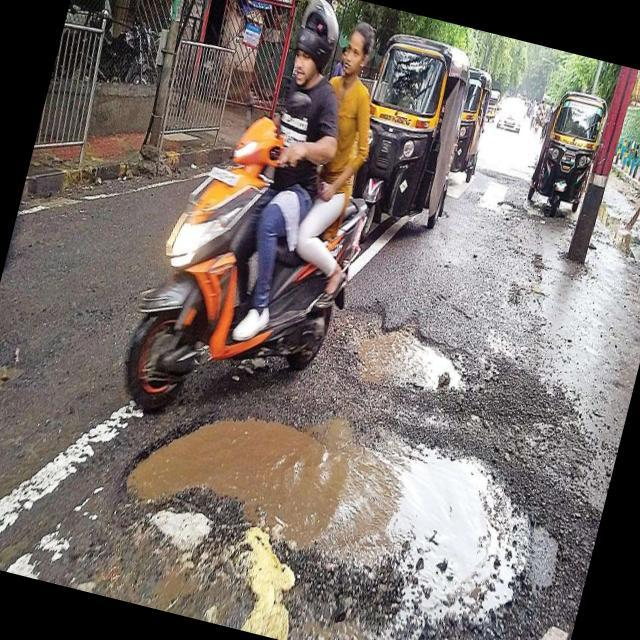Pothole: (106, 367, 553, 640), (334, 293, 486, 413), (494, 191, 518, 214)
